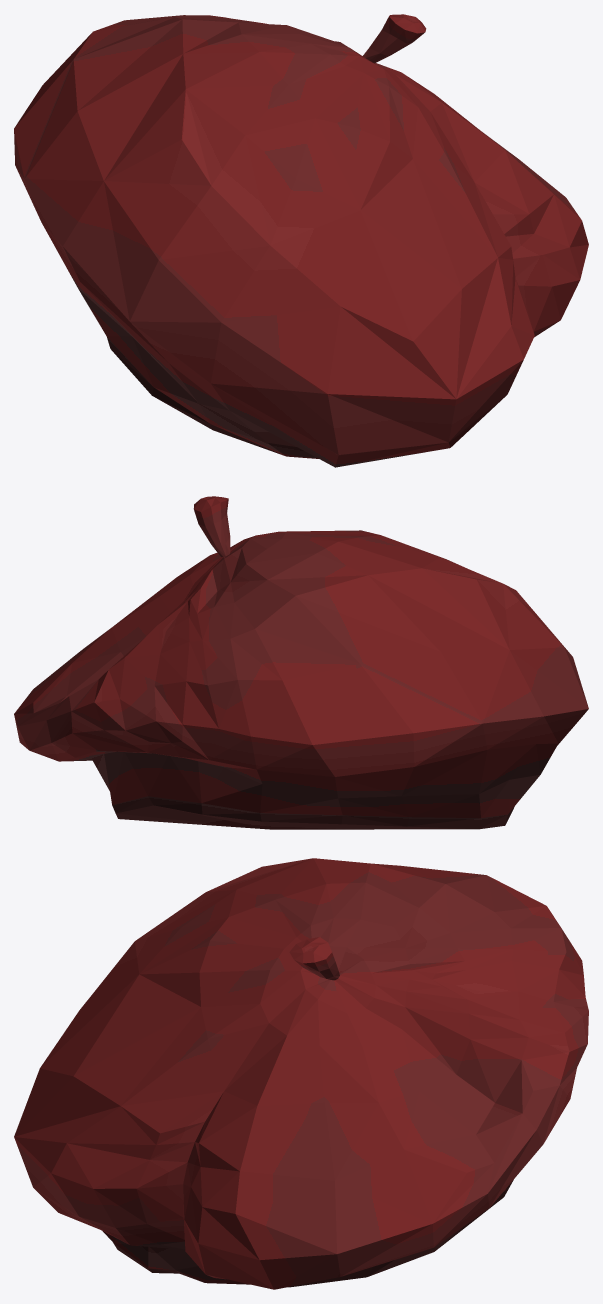
The model's file is CharSkyKid_Horn_HeartBeret.glb.
3 renders of one model, top to bottom at view 1: azimuth 30°, elevation 25°; view 2: azimuth 150°, elevation 25°; view 3: azimuth 270°, elevation 25°, orthographic. The views are drawn at different scales.
Visible parts, largest first — view 1: CharSkyKid_Horn_HeartBeret; view 2: CharSkyKid_Horn_HeartBeret; view 3: CharSkyKid_Horn_HeartBeret.
Boxes of the visible parts, left/top/right/bottom form: CharSkyKid_Horn_HeartBeret: left=14, top=14, right=588, bottom=467; CharSkyKid_Horn_HeartBeret: left=14, top=496, right=588, bottom=829; CharSkyKid_Horn_HeartBeret: left=14, top=858, right=588, bottom=1289.
Bounding box in the file's own units: 3.94 × 2.47 × 3.88.
1 material, 1 textured.
